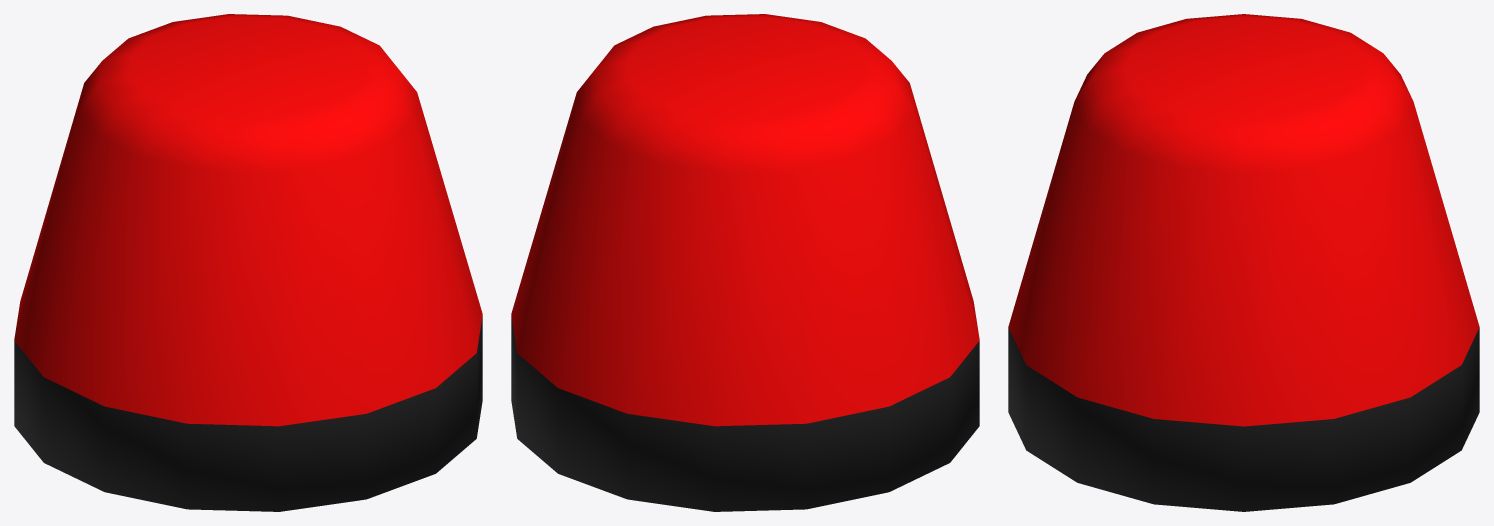
File: LampadaPolicia.fbx
The picture shows the model from 3 angles, left to right: view 1: azimuth 30°, elevation 25°; view 2: azimuth 150°, elevation 25°; view 3: azimuth 270°, elevation 25°; orthographic projection.
Visible parts, largest first — view 1: Cylinder; view 2: Cylinder; view 3: Cylinder.
Part boxes in pixels (box(x1,y1,x2,y2)): Cylinder: box(14, 14, 482, 511); Cylinder: box(511, 14, 979, 511); Cylinder: box(1008, 14, 1479, 511).
Size of the model in its own units: 100 by 80.66 by 100.
